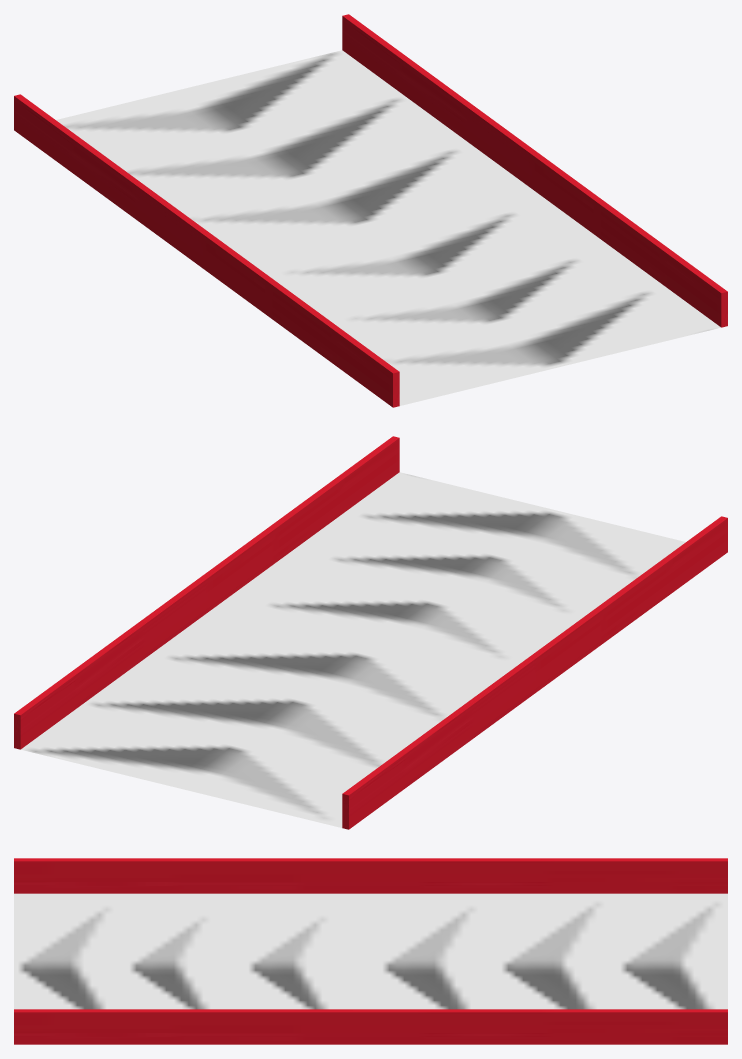
The model's file is DashPanel.obj.
3 views of the same model, one above another, from view 1: azimuth 30°, elevation 25°; view 2: azimuth 150°, elevation 25°; view 3: azimuth 270°, elevation 25° (orthographic). The views are drawn at different scales.
Visible parts, largest first — view 1: 平面, 立方体, 立方体.001; view 2: 平面, 立方体, 立方体.001; view 3: 平面, 立方体, 立方体.001.
Part boxes in pixels (<box>): 平面: <box>56,50,720,405</box>; 立方体: <box>342,14,727,327</box>; 立方体.001: <box>14,94,399,407</box>; 平面: <box>21,472,685,827</box>; 立方体: <box>14,436,399,749</box>; 立方体.001: <box>342,516,727,829</box>; 平面: <box>14,893,727,1009</box>; 立方体: <box>14,1009,727,1044</box>; 立方体.001: <box>14,858,727,893</box>.
Bounding box in the file's own units: 1.02 × 0.1 × 2.
2 materials, 2 textured.
